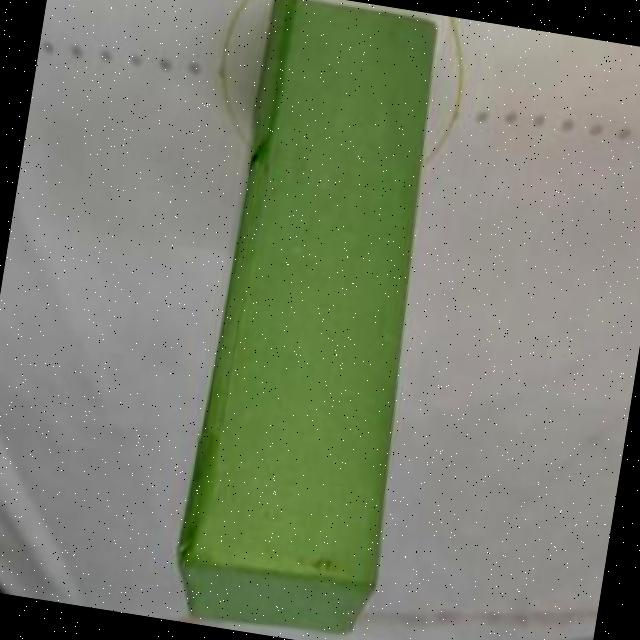greenbox: (162, 0, 469, 640)
